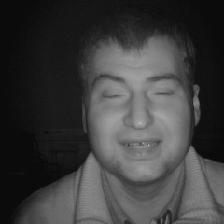happy: (59, 12, 212, 192)
